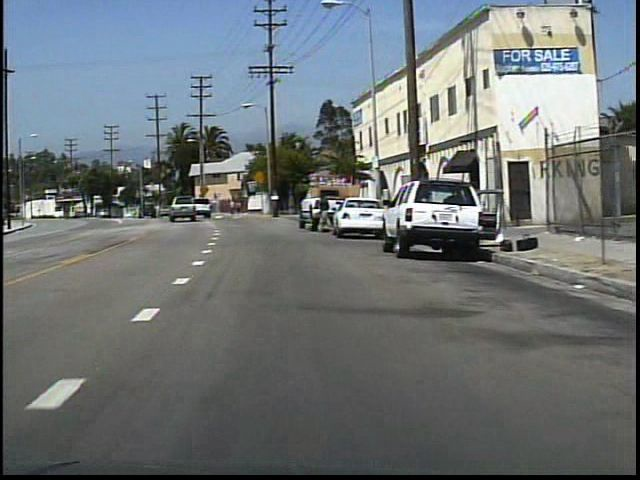person: (317, 187, 337, 237), (229, 198, 239, 218), (235, 199, 244, 216)
